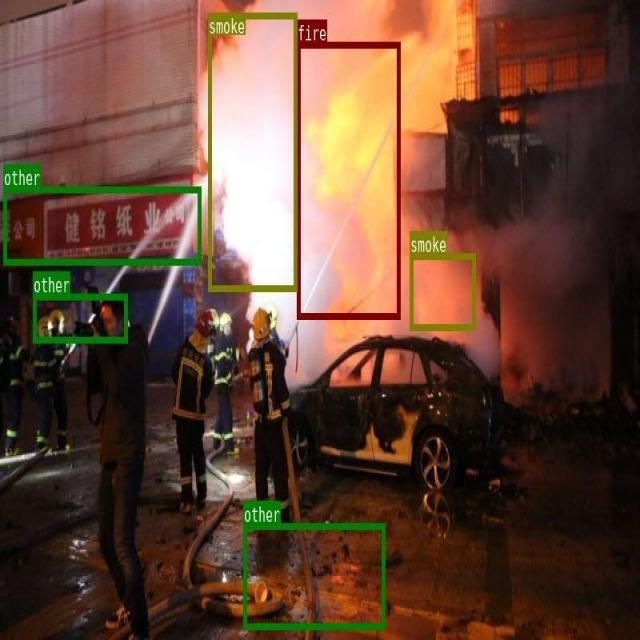fire: (297, 42, 400, 318)
smoke: (208, 12, 296, 291), (409, 253, 475, 330)
